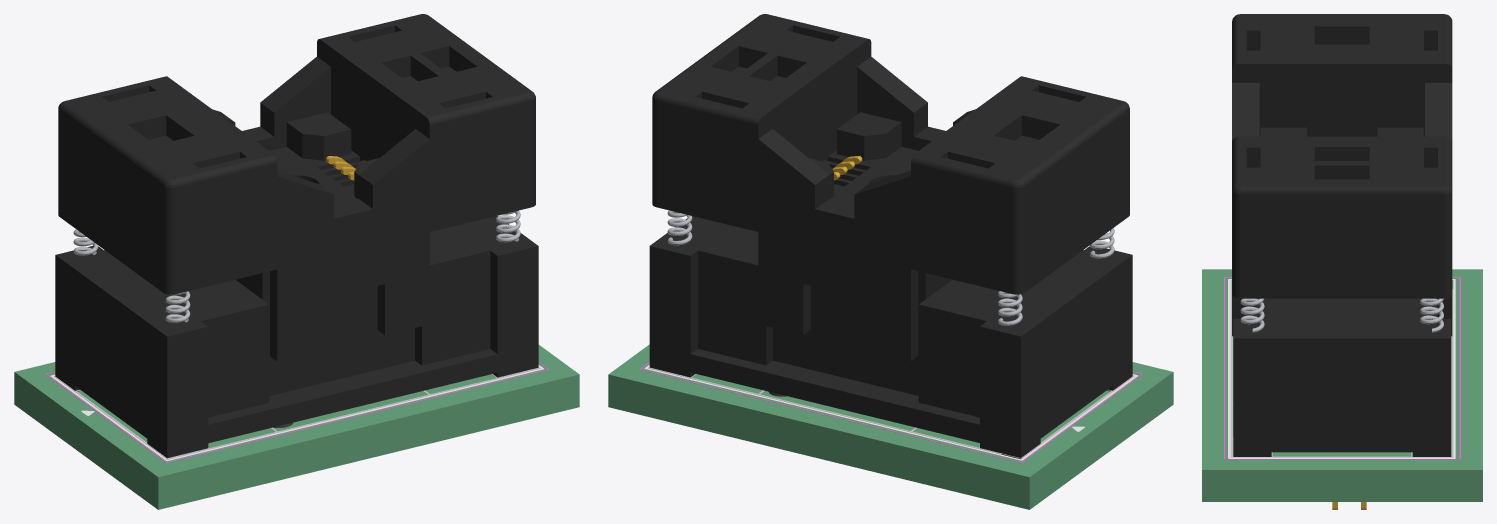
The model's file is head.glb.
3 renders of one model, left to right at view 1: azimuth 30°, elevation 25°; view 2: azimuth 150°, elevation 25°; view 3: azimuth 270°, elevation 25°, orthographic. The views are drawn at different scales.
Parts seen in each view (by area): view 1: model_1_13_cover, model_1_14_body, PCB, model_1, F.SilkS, F.Fab, F.CrtYd; view 2: model_1_13_cover, model_1_14_body, PCB, model_1, F.SilkS, F.Fab, F.CrtYd; view 3: model_1_13_cover, model_1_14_body, PCB, F.SilkS, model_1, F.Fab, F.CrtYd.
Part boxes in pixels (x1,y1,x2,y2): model_1_13_cover: [58, 14, 535, 361]; model_1_14_body: [55, 112, 538, 458]; PCB: [14, 345, 579, 509]; model_1: [73, 156, 520, 322]; F.SilkS: [50, 365, 543, 461]; F.Fab: [54, 367, 540, 459]; F.CrtYd: [45, 362, 548, 462]; model_1_13_cover: [652, 14, 1129, 361]; model_1_14_body: [649, 112, 1132, 459]; PCB: [608, 344, 1173, 509]; model_1: [667, 156, 1114, 325]; F.SilkS: [644, 364, 1137, 460]; F.Fab: [648, 367, 1134, 458]; F.CrtYd: [639, 362, 1142, 462]; model_1_13_cover: [1232, 14, 1452, 336]; model_1_14_body: [1233, 127, 1451, 456]; PCB: [1202, 269, 1482, 501]; F.SilkS: [1228, 279, 1455, 458]; model_1: [1240, 298, 1443, 509]; F.Fab: [1230, 279, 1453, 457]; F.CrtYd: [1224, 277, 1460, 459].
Size of the model in its own units: 21.55 by 16.7 by 12.75.
